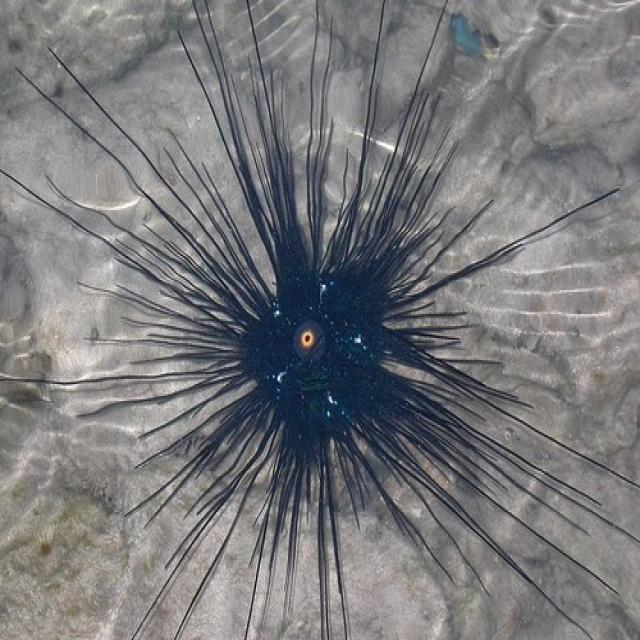Urchin: (72, 46, 586, 587)
